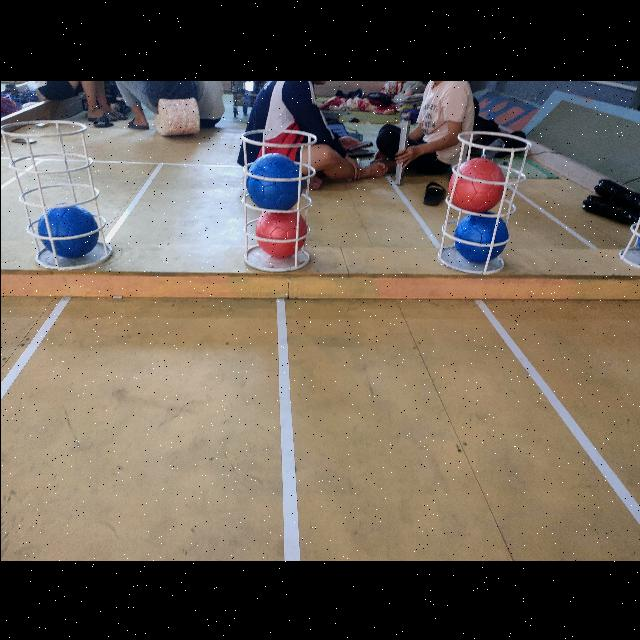B: (36, 200, 98, 258), (247, 152, 301, 210), (454, 210, 506, 262)
R: (448, 156, 504, 214), (254, 207, 306, 257)
